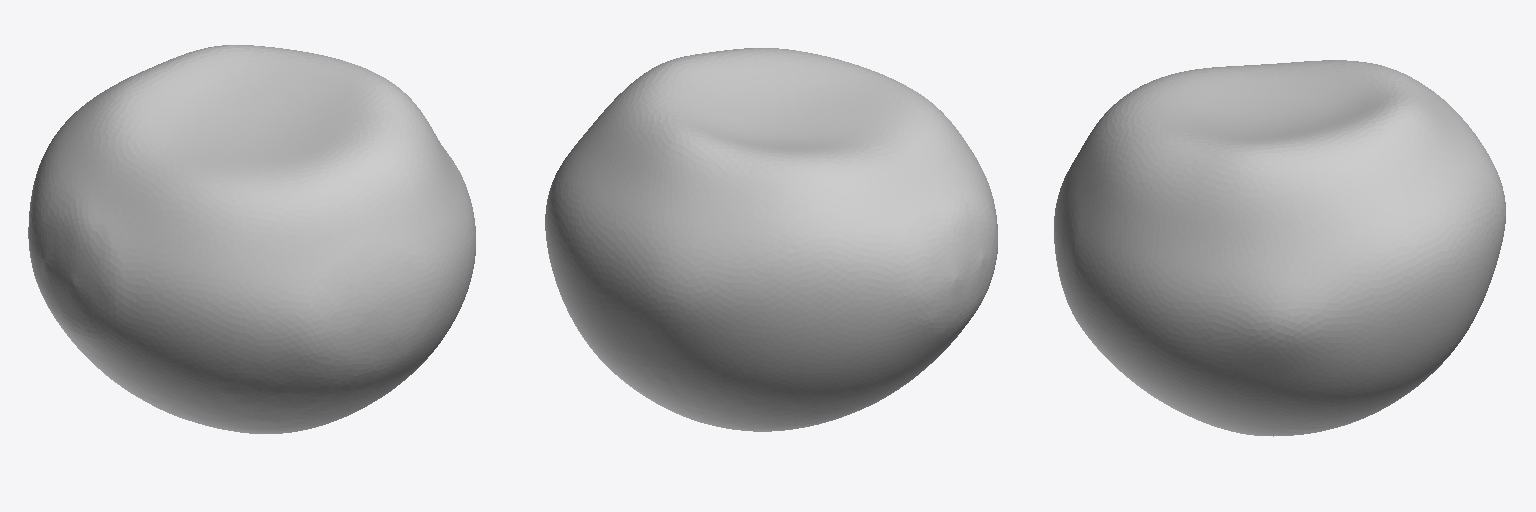
Rendered from TP0_Ch0_Ill0_Ang0,45,90,135,180,225,270,315_16bit_DS_mesh_uv.obj.
The picture shows the model from 3 angles: view 1: azimuth 30°, elevation 25°; view 2: azimuth 150°, elevation 25°; view 3: azimuth 270°, elevation 25°; orthographic projection.
Parts seen in each view (by area): view 1: TP0_Ch0_Ill0_Ang0,45,90,135,180,225,270,315_16bit_DS_mesh_remes; view 2: TP0_Ch0_Ill0_Ang0,45,90,135,180,225,270,315_16bit_DS_mesh_remes; view 3: TP0_Ch0_Ill0_Ang0,45,90,135,180,225,270,315_16bit_DS_mesh_remes.
Boxes of the visible parts, <box> form: TP0_Ch0_Ill0_Ang0,45,90,135,180,225,270,315_16bit_DS_mesh_remes: <box>28,45,475,433</box>; TP0_Ch0_Ill0_Ang0,45,90,135,180,225,270,315_16bit_DS_mesh_remes: <box>545,48,997,431</box>; TP0_Ch0_Ill0_Ang0,45,90,135,180,225,270,315_16bit_DS_mesh_remes: <box>1054,60,1505,436</box>.
Bounding box in the file's own units: 355 × 271 × 348.